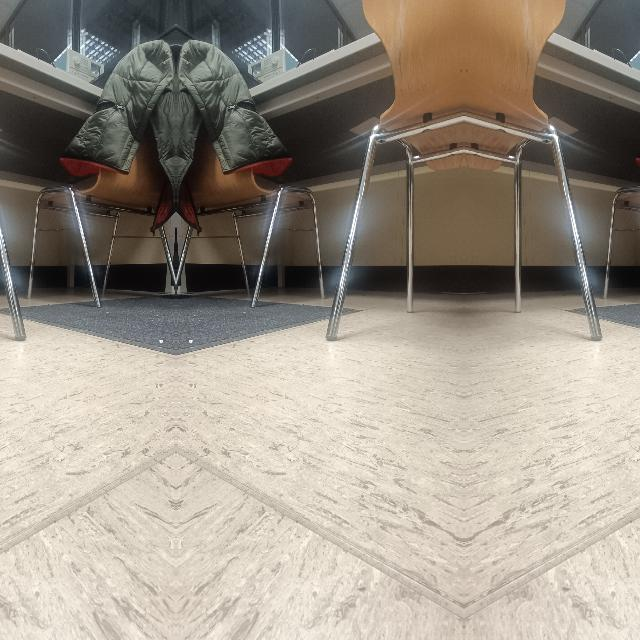obstacle: (81, 236, 172, 310), (178, 236, 268, 310), (326, 225, 362, 343), (566, 225, 602, 343), (0, 225, 24, 343)
